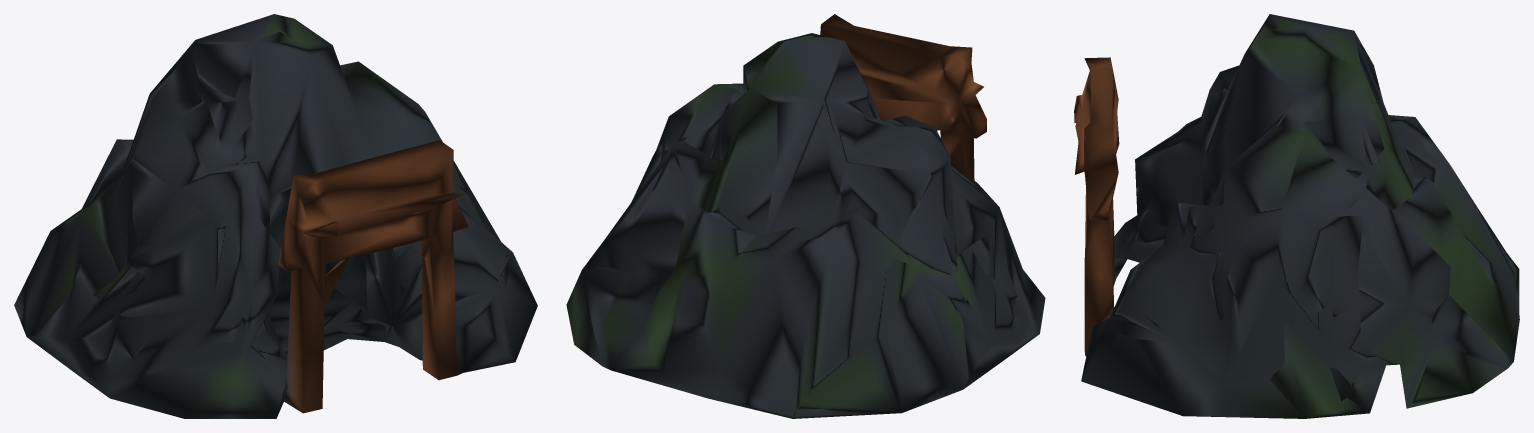
The model's file is gen3d-abandoned-mine-entrance-lod1.glb.
3 renders of one model, left to right at view 1: azimuth 30°, elevation 25°; view 2: azimuth 150°, elevation 25°; view 3: azimuth 270°, elevation 25°, orthographic. The views are drawn at different scales.
Parts seen in each view (by area): view 1: part_0; view 2: part_0; view 3: part_0.
Part boxes in pixels (x1,y1,x2,y2): part_0: [14, 14, 537, 418]; part_0: [566, 14, 1045, 418]; part_0: [1074, 14, 1519, 418].
Bounding box in the file's own units: 1.45 × 0.9873 × 1.35.
